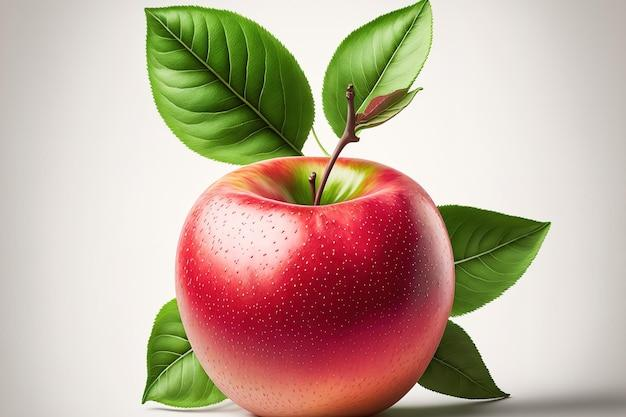Apple: (166, 143, 487, 413)
